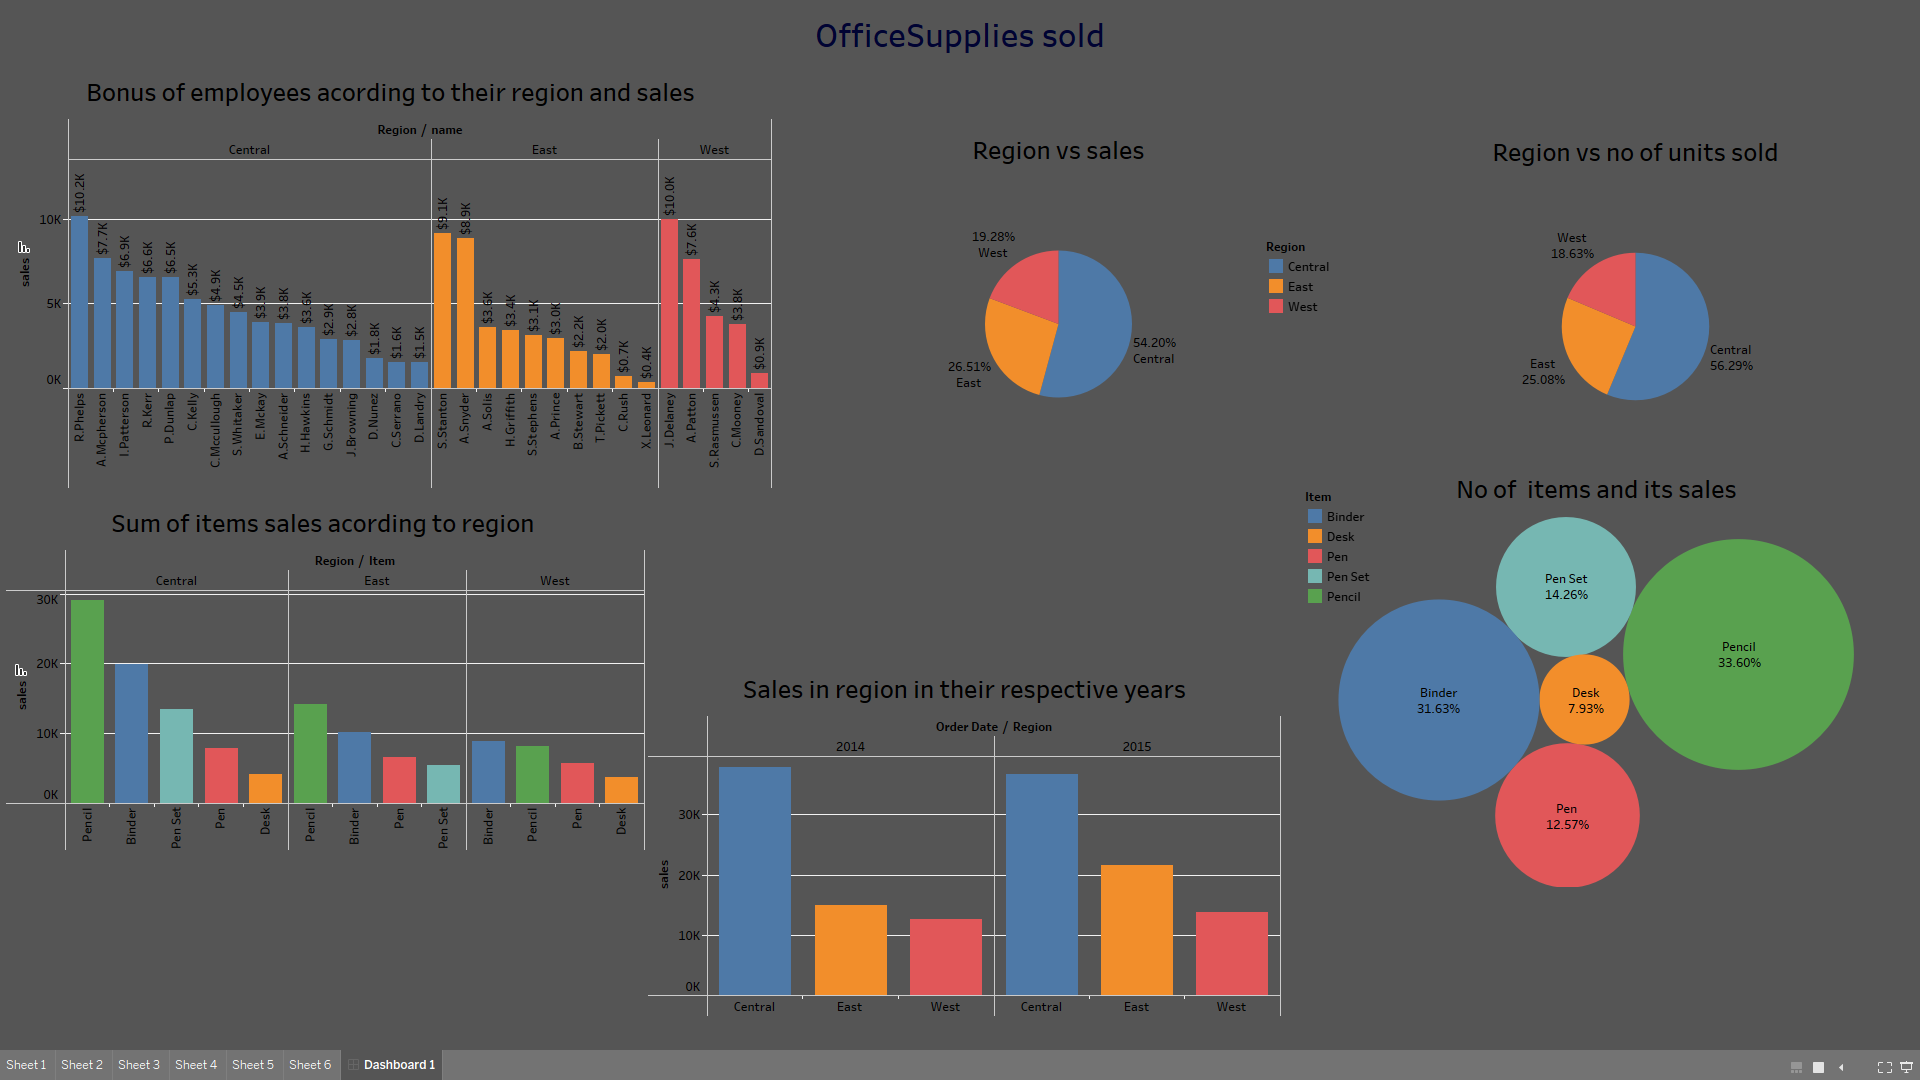

The dashboard page shown, as its layout file describes it:
{"tool":"tableau","page":{"name":"Dashboard 1","canvas":[1000,1000],"units":"permille","ordinal":0},"visuals":[{"type":"title","box":[4.7,8.9,990.6,58]},{"type":"worksheet","title":"Sheet 1","mark":"Automatic","rows":["Calculation_939563496016285696"],"cols":["Region","Calculation_939563496016388097"],"box":[4.7,68.1,397.3,398.4]},{"type":"worksheet","title":"Sheet 2","mark":"Pie","box":[404.9,122.8,293.2,332.6]},{"type":"worksheet","title":"Sheet 3","mark":"Pie","box":[708,125,287.9,327]},{"type":"legend","title":"Sheet 2","param":"[federated.1rihy8i163vlpd1326kal08gv4py].[none:Region:nk]","box":[659.5,226.6,81.9,87]},{"type":"worksheet","title":"Sheet 4","mark":"Circle","box":[668.2,445.3,326.5,399.6]},{"type":"legend","title":"Sheet 4","param":"[federated.1rihy8i163vlpd1326kal08gv4py].[none:Item:nk]","box":[679.9,464.3,81.9,131.7]},{"type":"worksheet","title":"Sheet 5","mark":"Automatic","rows":["Calculation_939563496016285696"],"cols":["Region","Item"],"box":[2.9,477.7,332.9,332.6]},{"type":"worksheet","title":"Sheet 6","mark":"Automatic","rows":["Calculation_939563496016285696"],"cols":["OrderDate","Region"],"box":[337.6,636.2,329.4,332.6]}]}

Visuals, with their boxes on the dashboard's canvas, which has no fixed pixel size, in thousandths of its width and height (x1, y1, x2, y2). These are canvas units, not pixel positions in the 1920x1080 screenshot, which may show the page scaled, cropped or inside an application window:
title: 5:9:995:67
"Sheet 1" worksheet: 5:68:402:466
"Sheet 2" worksheet (Pie marks): 405:123:698:455
"Sheet 3" worksheet (Pie marks): 708:125:996:452
"Sheet 2" legend: 660:227:741:314
"Sheet 4" worksheet (Circle marks): 668:445:995:845
"Sheet 4" legend: 680:464:762:596
"Sheet 5" worksheet: 3:478:336:810
"Sheet 6" worksheet: 338:636:667:969
